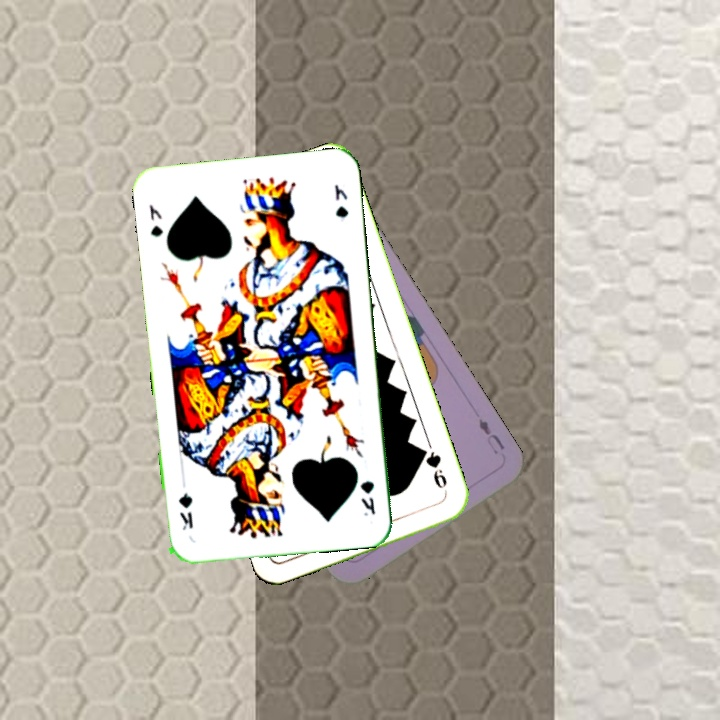EU: (474, 414, 507, 457)
G9: (417, 444, 450, 492)
GK: (356, 476, 378, 519), (145, 200, 166, 239)
